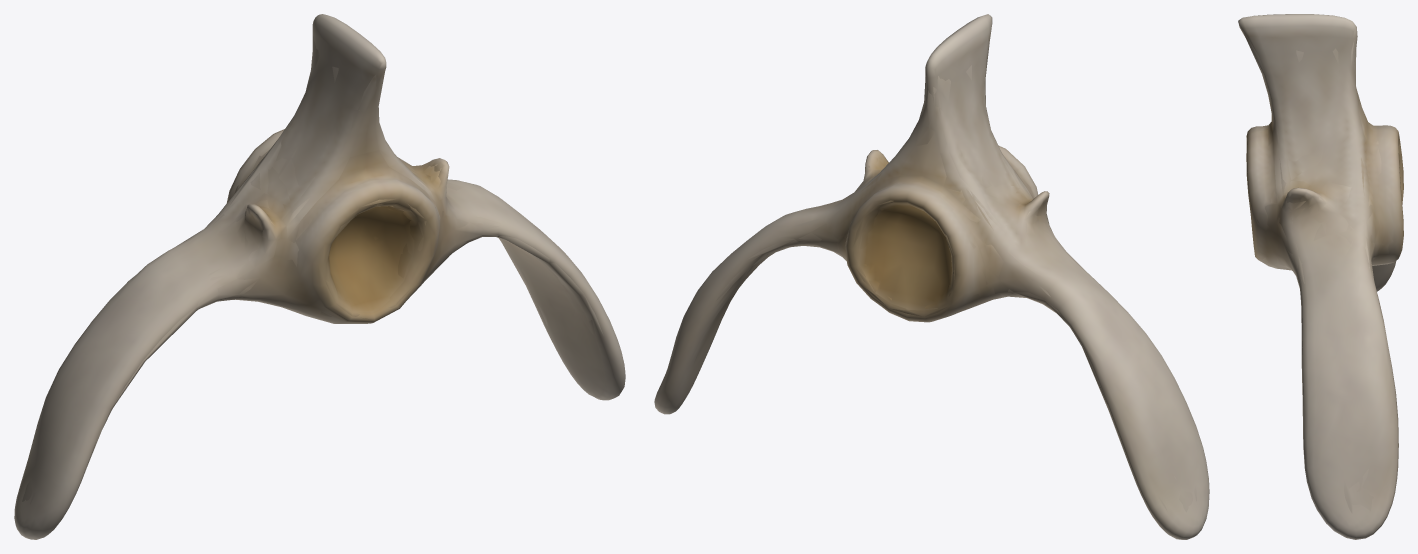
Rendered from vertebrae lumbales 4.fbx.
The picture shows the model from 3 angles, left to right: view 1: azimuth 30°, elevation 25°; view 2: azimuth 150°, elevation 25°; view 3: azimuth 270°, elevation 25°; orthographic projection. The views are drawn at different scales.
Parts seen in each view (by area): view 1: vertebrae lumbales 4, vertebrae lumbales 4 low; view 2: vertebrae lumbales 4, vertebrae lumbales 4 low; view 3: vertebrae lumbales 4, vertebrae lumbales 4 low.
Part boxes in pixels (x1,y1,x2,y2): vertebrae lumbales 4: (14,14,625,539); vertebrae lumbales 4 low: (22,36,603,504); vertebrae lumbales 4: (654,14,1209,539); vertebrae lumbales 4 low: (663,46,1196,512); vertebrae lumbales 4: (1238,14,1403,539); vertebrae lumbales 4 low: (1244,33,1403,513).
Bounding box in the file's own units: 10.42 × 7.75 × 2.89.
Materials: 1 (1 with a texture image).
